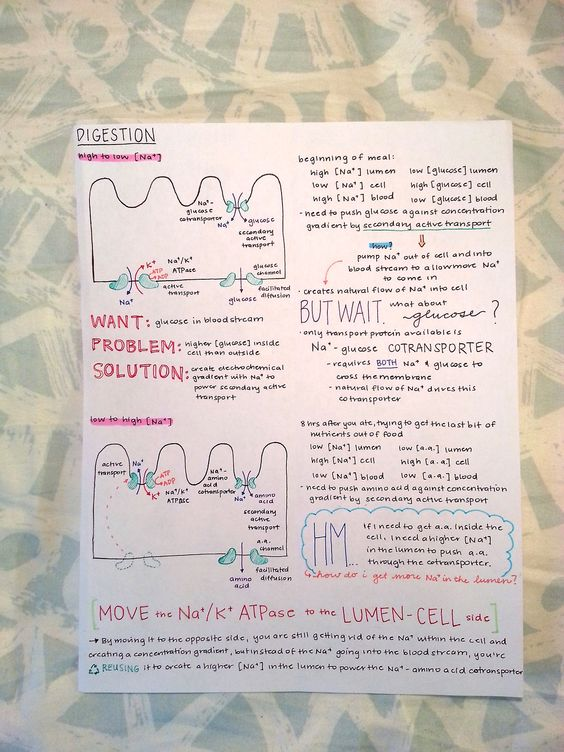page: (80, 126, 517, 686)
